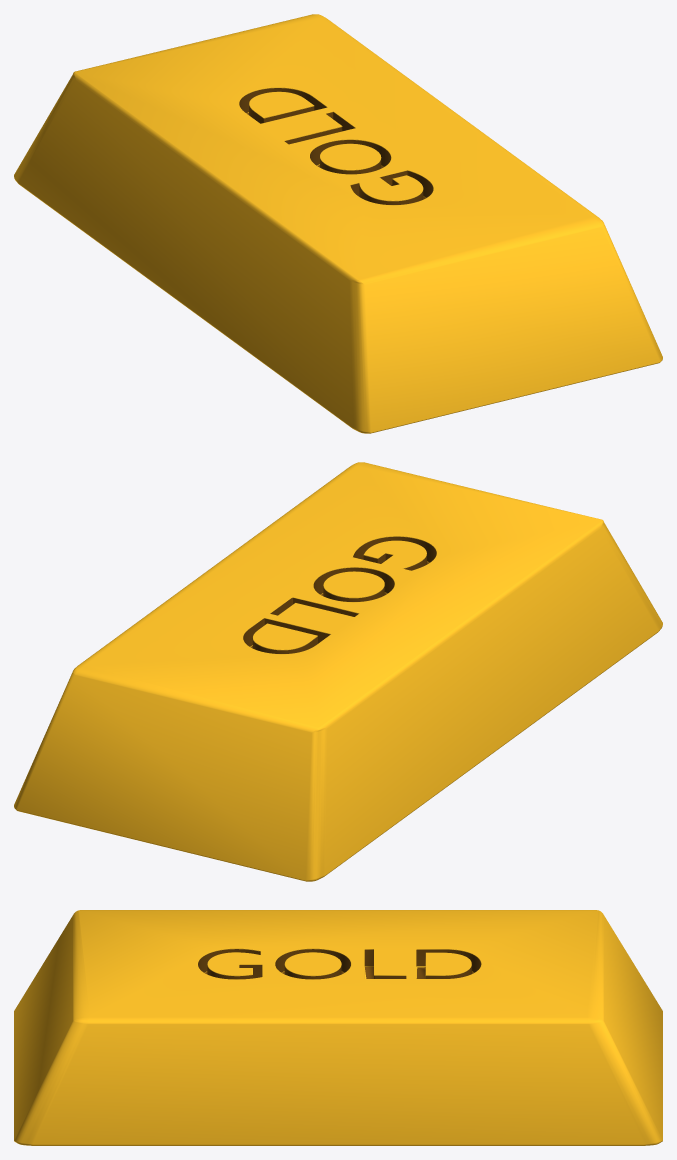
The model's file is GoldBar.glb.
3 renders of one model, top to bottom at view 1: azimuth 30°, elevation 25°; view 2: azimuth 150°, elevation 25°; view 3: azimuth 270°, elevation 25°, orthographic. The views are drawn at different scales.
Visible parts, largest first — view 1: Cube; view 2: Cube; view 3: Cube.
Boxes of the visible parts, left/top/right/bottom form: Cube: left=14, top=14, right=662, bottom=433; Cube: left=14, top=462, right=662, bottom=881; Cube: left=14, top=910, right=662, bottom=1145.
Size of the model in its own units: 0.2622 by 0.102 by 0.5244.
